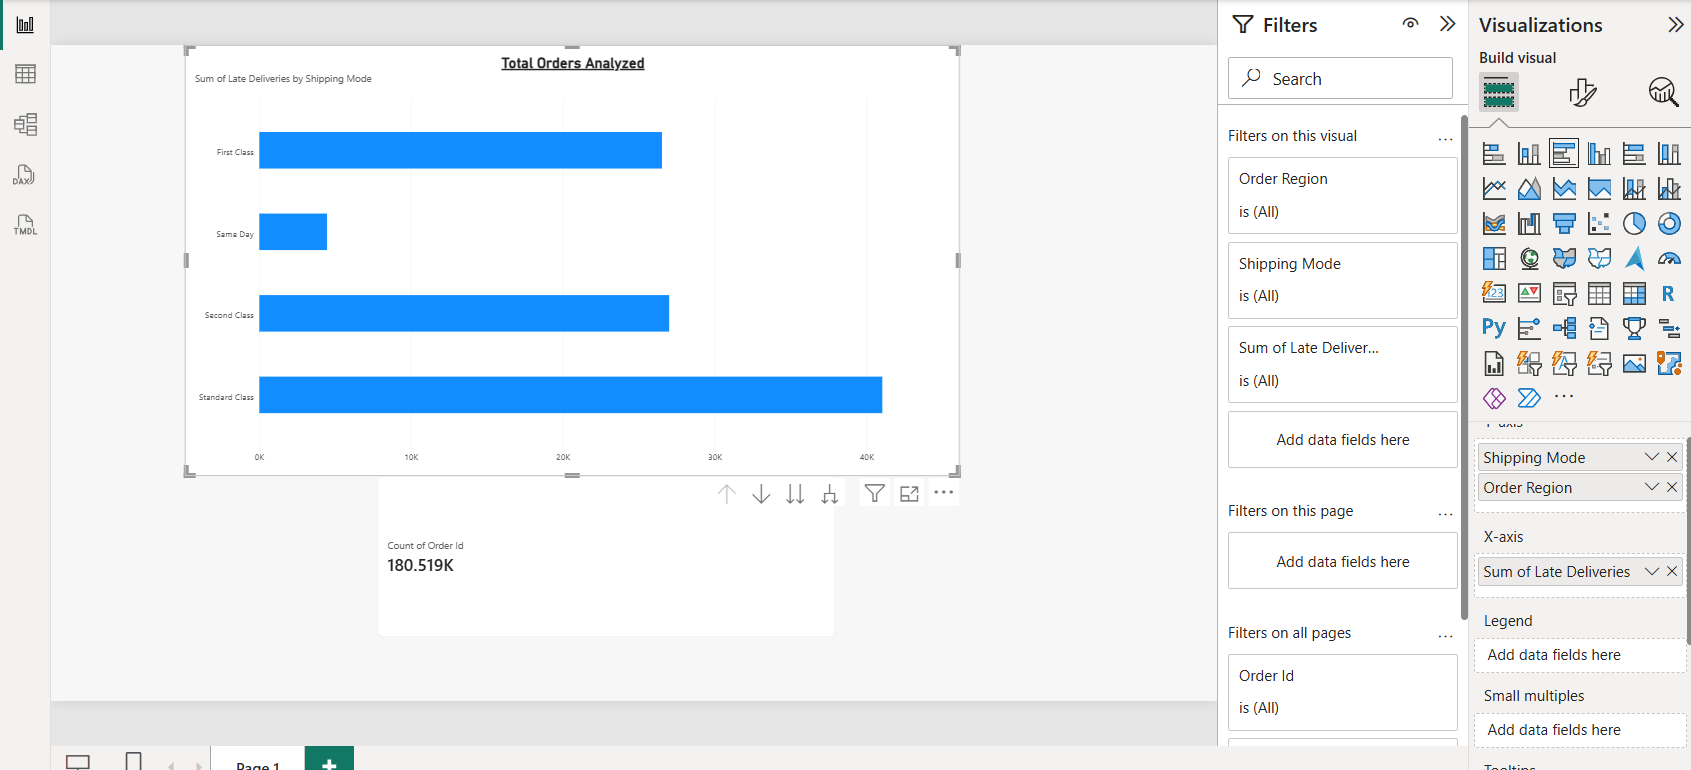

Layout of this report page (visuals, bound fields, positions):
{"tool":"powerbi","page":{"name":"Page 1","canvas":[1920,1080],"ordinal":0},"visuals":[{"type":"slicer","title":"Total Orders Analyzed","fields":{"Values":["DataCoSupplyChainDataset.Shipping Mode","DataCoSupplyChainDataset.Order Region","DataCoSupplyChainDataset.Late Deliveries"]},"box":[219.7,0,1277.3,711.1],"z":0},{"type":"cardVisual","fields":{"Data":["CountNonNull(DataCoSupplyChainDataset.Order Id)"]},"box":[536.7,711.1,754.1,265],"z":1000}]}

Visuals, with their boxes on the page's 1920x1080 design canvas (x1, y1, x2, y2). These are canvas units, not pixel positions in the 1691x770 screenshot, which may show the page scaled, cropped or inside an application window:
"Total Orders Analyzed" slicer: <region>220, 0, 1497, 711</region>
cardVisual - CountNonNull(DataCoSupplyChainDataset.Order Id): <region>537, 711, 1291, 976</region>
